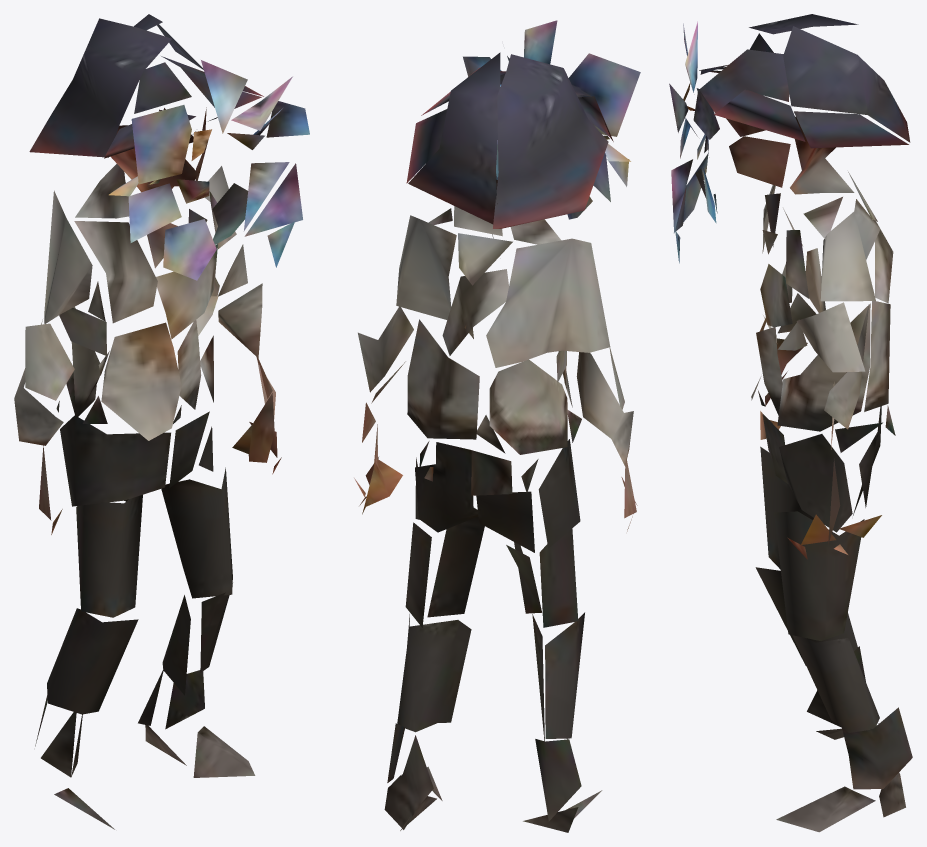
File: crowd_oscar_lite.glb
3 views of the same model, side by side, from view 1: azimuth 30°, elevation 25°; view 2: azimuth 150°, elevation 25°; view 3: azimuth 270°, elevation 25° (orthographic). The views are drawn at different scales.
Parts seen in each view (by area): view 1: tripo_node_c9209fbc-5ba6-4d06-9652-62d416d54b07; view 2: tripo_node_c9209fbc-5ba6-4d06-9652-62d416d54b07; view 3: tripo_node_c9209fbc-5ba6-4d06-9652-62d416d54b07.
Part boxes in pixels (box(x1,y1,x2,y2)): tripo_node_c9209fbc-5ba6-4d06-9652-62d416d54b07: box(14, 14, 309, 829); tripo_node_c9209fbc-5ba6-4d06-9652-62d416d54b07: box(354, 20, 640, 832); tripo_node_c9209fbc-5ba6-4d06-9652-62d416d54b07: box(669, 14, 912, 832).
Size of the model in its own units: 0.675 by 1.84 by 0.5301.
1 material, 1 textured.
